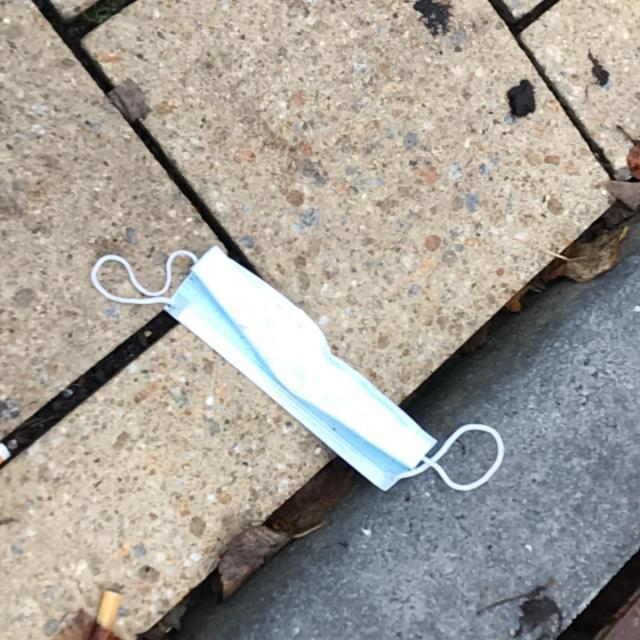Mask: (88, 243, 506, 494)
